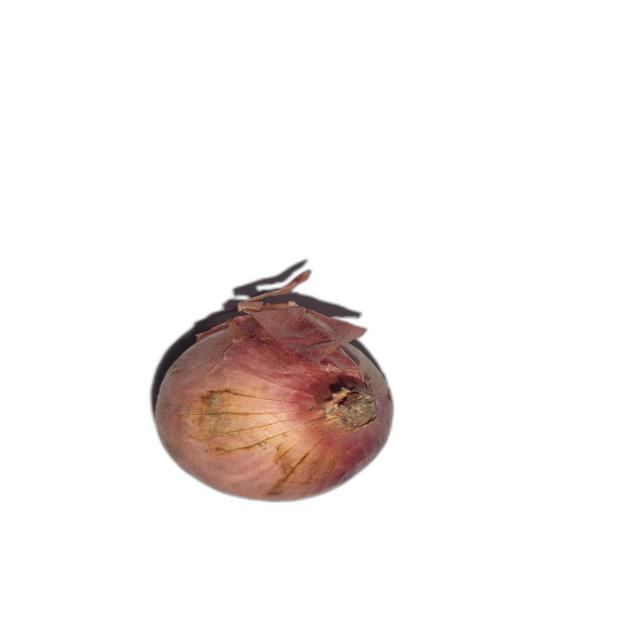onion: (154, 269, 397, 503)
